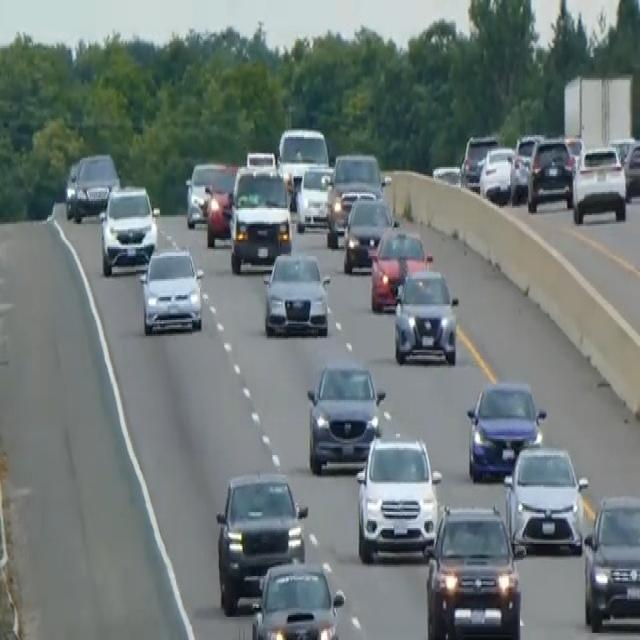car: (214, 468, 308, 614), (355, 432, 442, 564), (502, 441, 589, 555), (305, 359, 385, 473), (465, 377, 546, 482), (582, 493, 639, 631), (250, 558, 345, 638), (392, 265, 459, 366), (261, 249, 330, 338), (325, 150, 388, 246), (138, 245, 204, 336), (368, 222, 432, 311), (98, 181, 158, 274), (571, 142, 627, 224), (342, 192, 396, 274), (66, 150, 120, 222), (526, 135, 574, 212), (184, 158, 228, 228), (204, 164, 238, 247), (294, 162, 334, 231), (509, 132, 543, 202), (277, 124, 328, 169), (478, 144, 515, 204), (460, 132, 498, 188), (63, 156, 80, 217), (623, 137, 639, 201)
jeep: (423, 502, 526, 638)
minivan: (228, 151, 292, 274), (275, 121, 330, 206)
